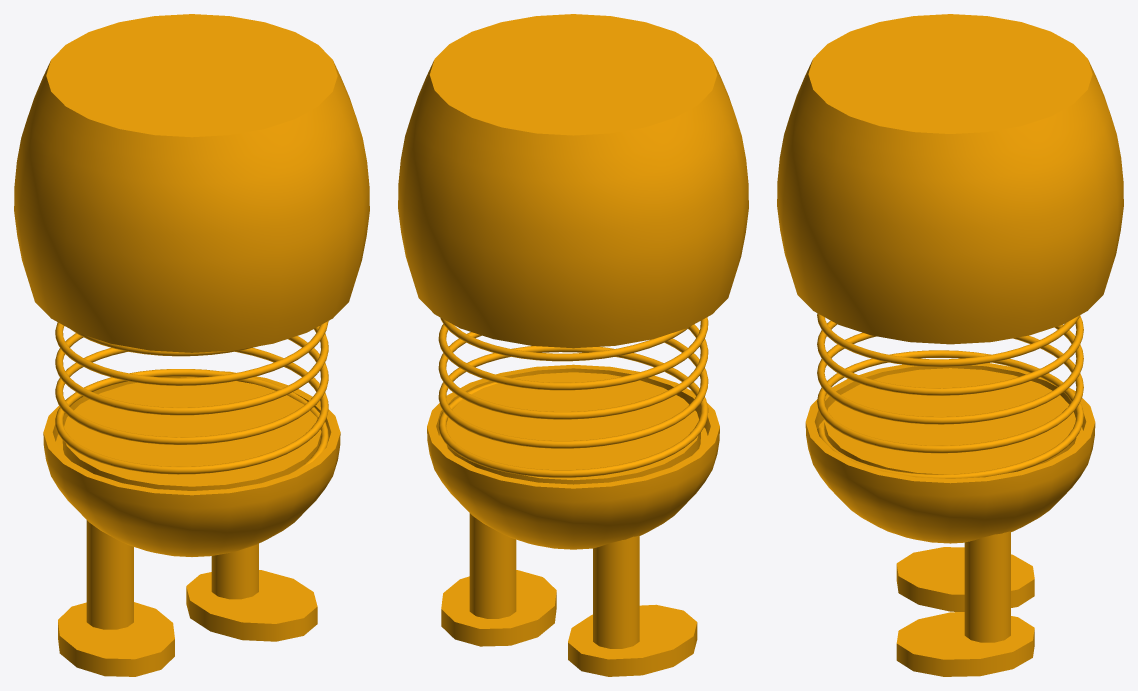
Rendered from bane_doll.fbx.
The picture shows the model from 3 angles, left to right: view 1: azimuth 30°, elevation 25°; view 2: azimuth 150°, elevation 25°; view 3: azimuth 270°, elevation 25°; orthographic projection. The views are drawn at different scales.
Visible parts, largest first — view 1: P_head, P_base, P_spring; view 2: P_head, P_base, P_spring; view 3: P_head, P_base, P_spring.
Part boxes in pixels (x1=…): P_head: x1=14, y1=14, x2=369, y2=352; P_base: x1=43, y1=371, x2=340, y2=676; P_spring: x1=55, y1=321, x2=328, y2=474; P_head: x1=398, y1=14, x2=748, y2=348; P_base: x1=427, y1=364, x2=719, y2=676; P_spring: x1=438, y1=317, x2=708, y2=477; P_head: x1=777, y1=14, x2=1123, y2=344; P_base: x1=805, y1=363, x2=1095, y2=676; P_spring: x1=817, y1=313, x2=1083, y2=478.
Bounding box in the file's own units: 18.2 × 31.64 × 18.2.
